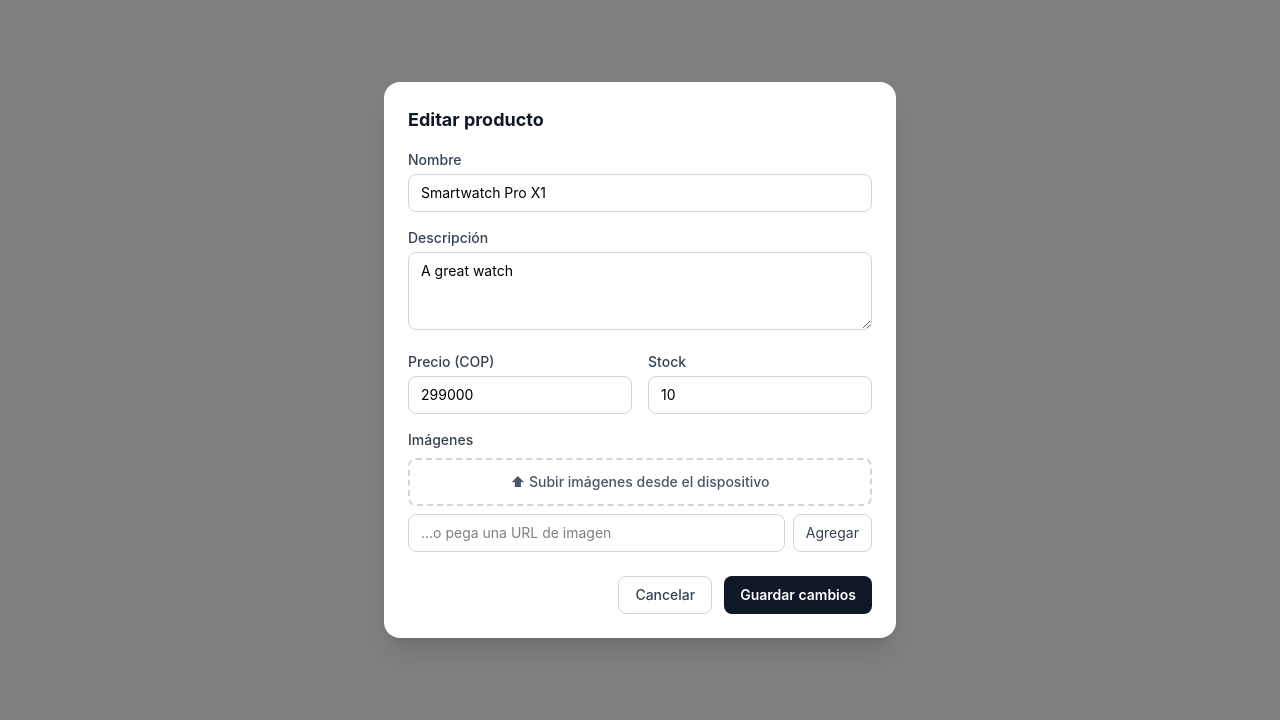
Scenario: ProductFormModal › shows validation error when no images
Click the button "Guardar cambios".
click(798, 595)  # box [724,576,872,614]
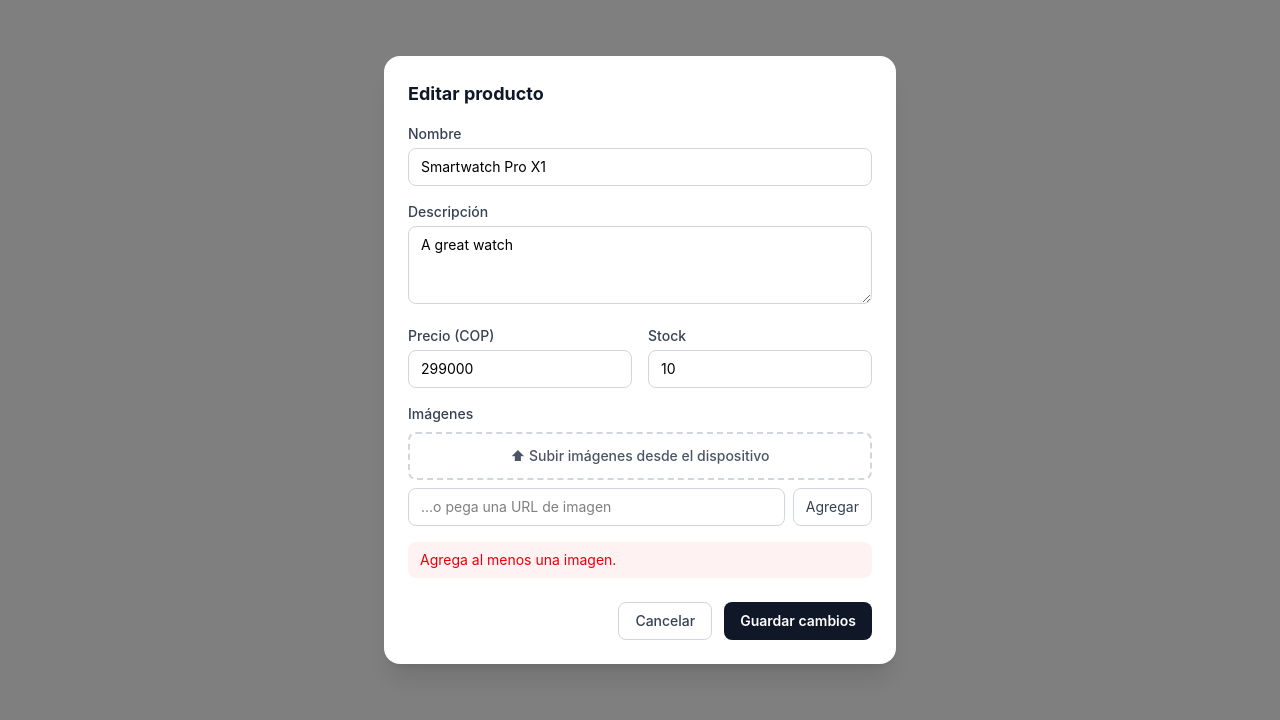
Result: the text "Agrega al menos una imagen." is shown at [408,542,872,578]
